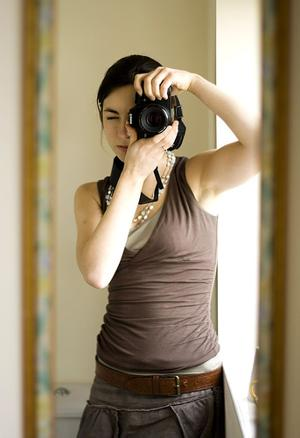person: (74, 52, 258, 436)
